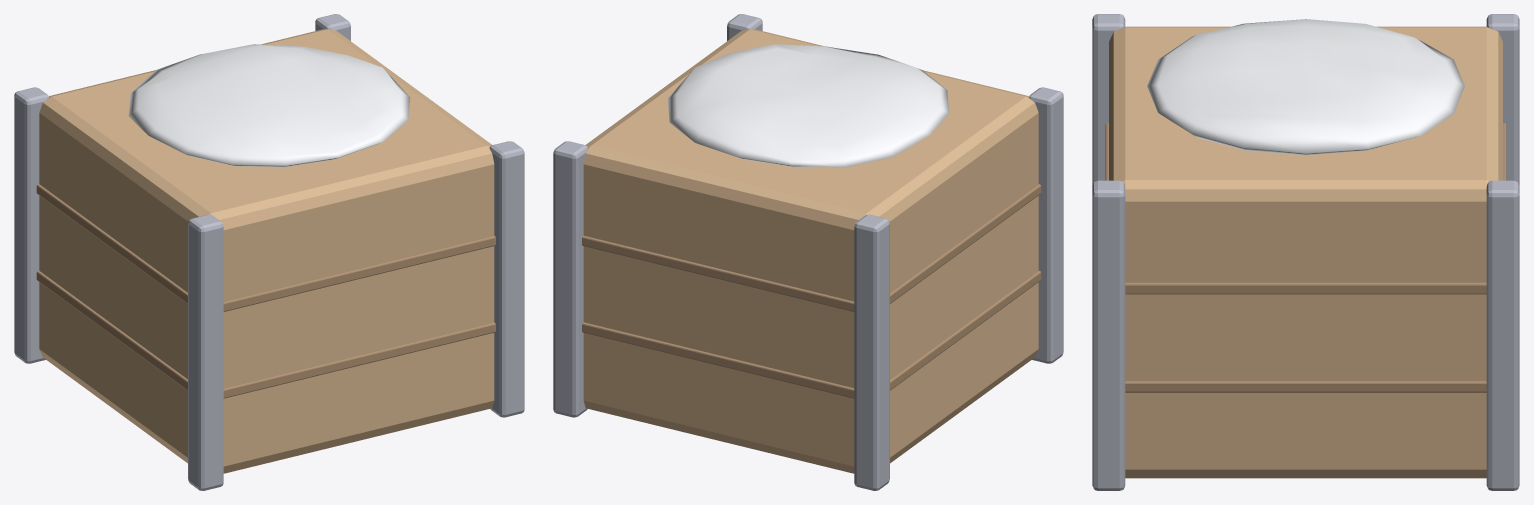
File: pushblock.fbx
3 views of the same model, side by side, from view 1: azimuth 30°, elevation 25°; view 2: azimuth 150°, elevation 25°; view 3: azimuth 270°, elevation 25° (orthographic). The views are drawn at different scales.
Visible parts, largest first — view 1: PushBlock; view 2: PushBlock; view 3: PushBlock.
Boxes of the visible parts, x1,y1,x2,y2 form: PushBlock: (14,14,524,490); PushBlock: (553,14,1063,490); PushBlock: (1092,14,1519,490).
Bounding box in the file's own units: 0.78 × 0.674 × 0.78.
